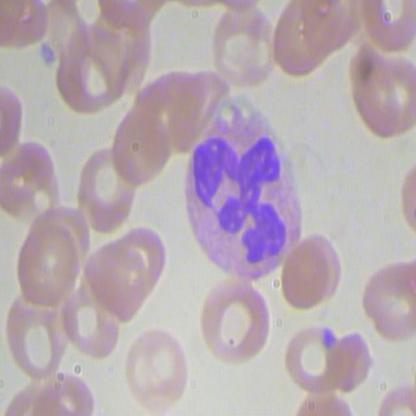RBC: (51, 23, 132, 116), (196, 278, 272, 367), (208, 1, 277, 93), (345, 42, 406, 142), (110, 95, 172, 190), (74, 144, 136, 238), (5, 286, 67, 380), (15, 220, 79, 309), (84, 238, 152, 321), (125, 326, 190, 410), (360, 257, 415, 348), (282, 319, 343, 393), (62, 292, 121, 360), (282, 237, 332, 310), (330, 330, 373, 394)
WBC: (178, 88, 308, 290)
